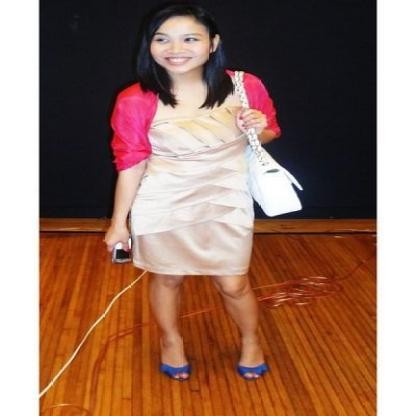bag: (224, 70, 302, 216)
dress: (116, 100, 256, 274)
jacket: (111, 75, 280, 173)
shoe: (163, 364, 268, 380)
